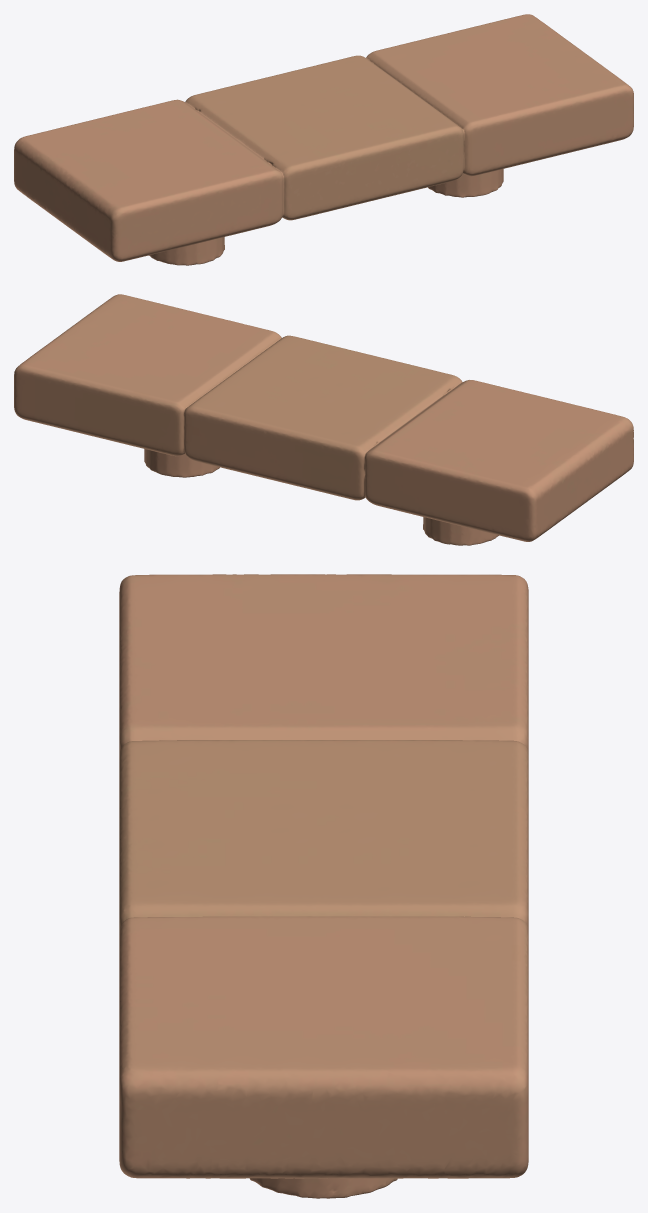
Rendered from tvstand2.glb.
3 renders of one model, top to bottom at view 1: azimuth 30°, elevation 25°; view 2: azimuth 150°, elevation 25°; view 3: azimuth 270°, elevation 25°, orthographic. The views are drawn at different scales.
Parts seen in each view (by area): view 1: world; view 2: world; view 3: world.
Part boxes in pixels (<box>): world: <box>14,14,633,265</box>; world: <box>14,294,633,545</box>; world: <box>119,574,528,1198</box>.
Bounding box in the file's own units: 1 × 0.1915 × 0.341.
1 material, 1 textured.
